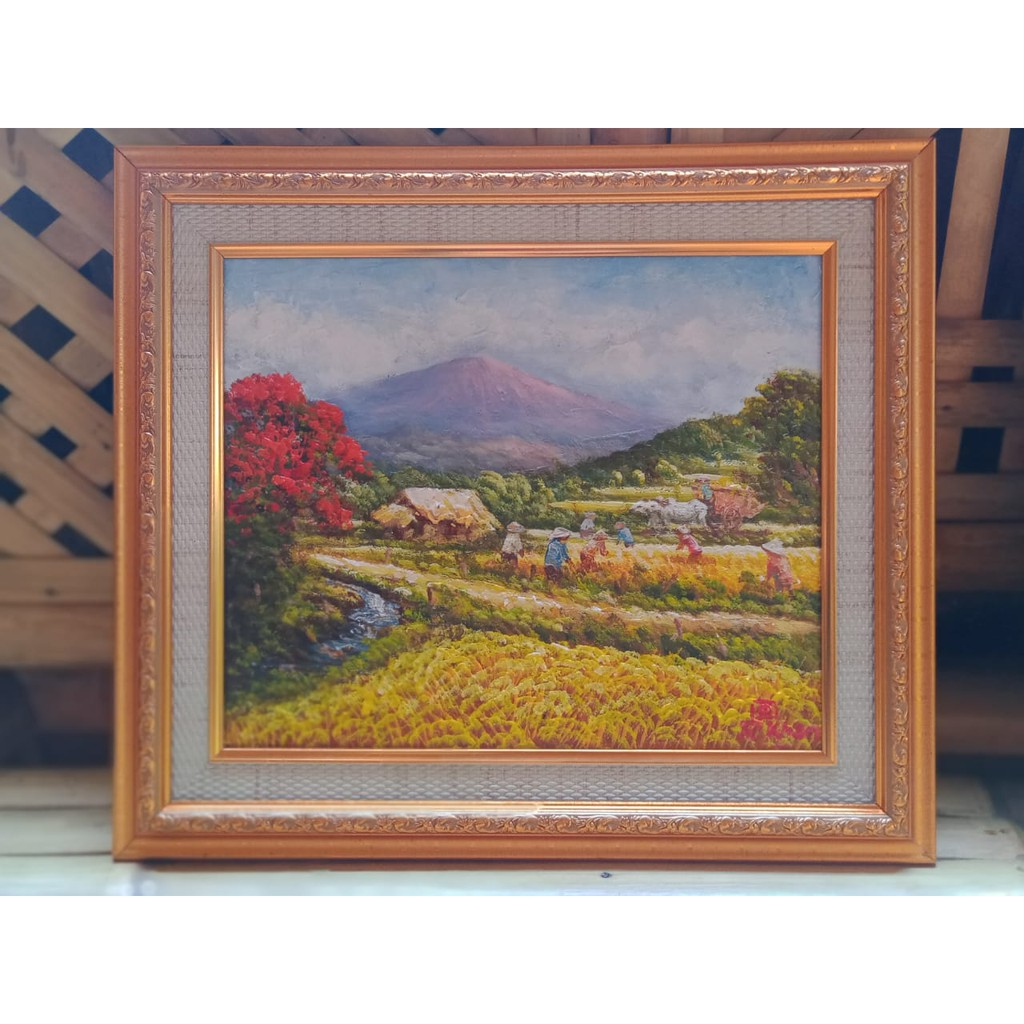lukisan: (97, 151, 954, 887)
